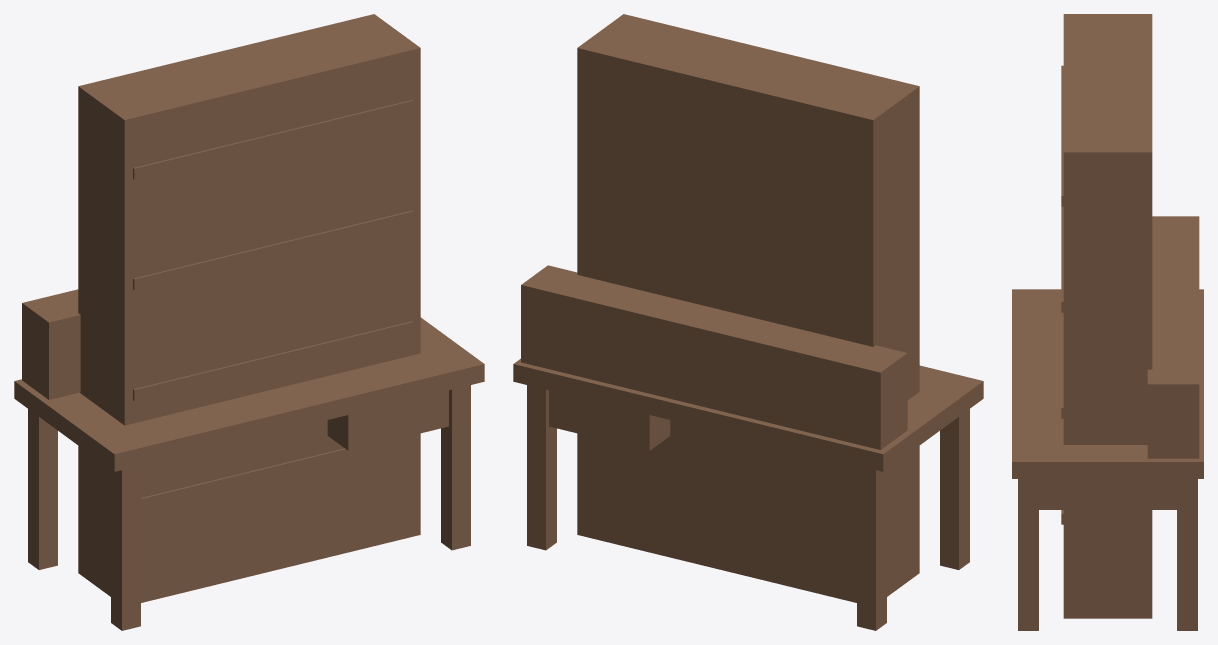
The model's file is furniture_kit.glb.
The picture shows the model from 3 angles, left to right: view 1: azimuth 30°, elevation 25°; view 2: azimuth 150°, elevation 25°; view 3: azimuth 270°, elevation 25°; orthographic projection. The views are drawn at different scales.
Parts seen in each view (by area): view 1: ArchivalBookshelf, LuthierWorkbench; view 2: ArchivalBookshelf, LuthierWorkbench; view 3: ArchivalBookshelf, LuthierWorkbench.
Boxes of the visible parts, box(x1,y1,x2,y2) form: ArchivalBookshelf: box(78, 14, 420, 602); LuthierWorkbench: box(14, 289, 484, 630); ArchivalBookshelf: box(577, 14, 919, 602); LuthierWorkbench: box(513, 265, 983, 630); ArchivalBookshelf: box(1061, 14, 1152, 618); LuthierWorkbench: box(1012, 216, 1203, 630).
Bounding box in the file's own units: 1.75 × 2.2 × 0.82.
